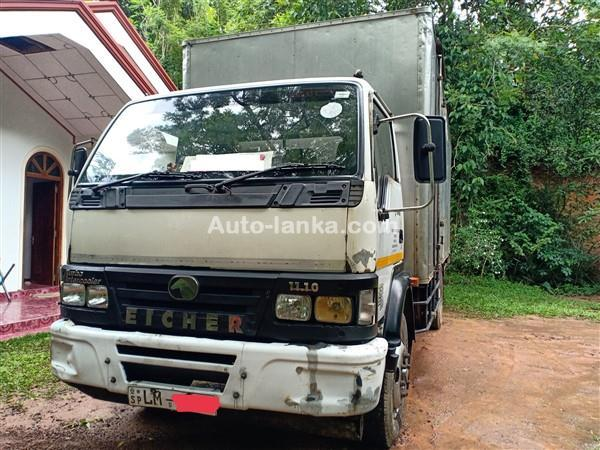truck: (43, 6, 451, 450)
